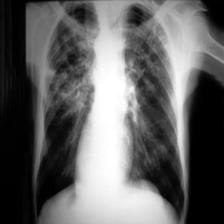tuberculosis: (32, 0, 186, 223)
